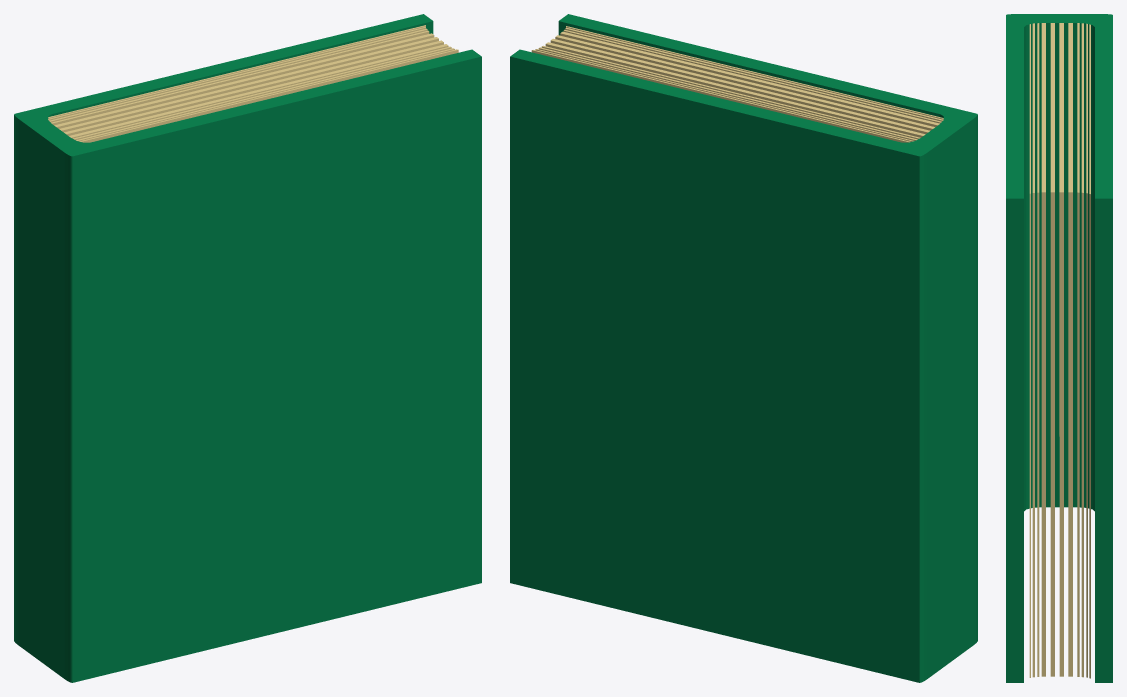
The model's file is Green Book 1.fbx.
3 views of the same model, side by side, from view 1: azimuth 30°, elevation 25°; view 2: azimuth 150°, elevation 25°; view 3: azimuth 270°, elevation 25° (orthographic). The views are drawn at different scales.
Visible parts, largest first — view 1: Cube; view 2: Cube; view 3: Cube.
Boxes of the visible parts, box(x1,y1,x2,y2) form: Cube: box(14, 14, 481, 682); Cube: box(510, 14, 977, 682); Cube: box(1006, 14, 1112, 682).
Bounding box in the file's own units: 818 × 1000 × 200.
